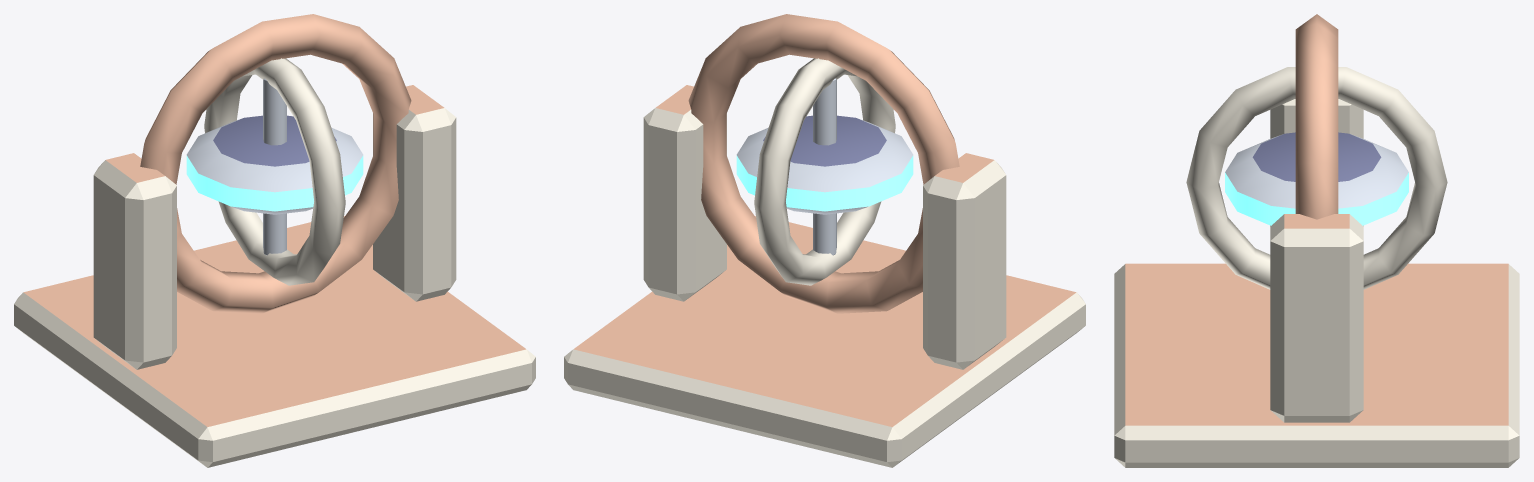
Rendered from R4X_Gyroscope_LOD1.fbx.
The picture shows the model from 3 angles, left to right: view 1: azimuth 30°, elevation 25°; view 2: azimuth 150°, elevation 25°; view 3: azimuth 270°, elevation 25°; orthographic projection. The views are drawn at different scales.
Parts seen in each view (by area): view 1: R4X_Gyroscope_LOD1; view 2: R4X_Gyroscope_LOD1; view 3: R4X_Gyroscope_LOD1.
Boxes of the visible parts, box(x1,y1,x2,y2) form: R4X_Gyroscope_LOD1: box(14, 14, 535, 467); R4X_Gyroscope_LOD1: box(564, 14, 1085, 467); R4X_Gyroscope_LOD1: box(1114, 14, 1519, 467).
Size of the model in its own units: 0.52 by 0.505 by 0.52.
